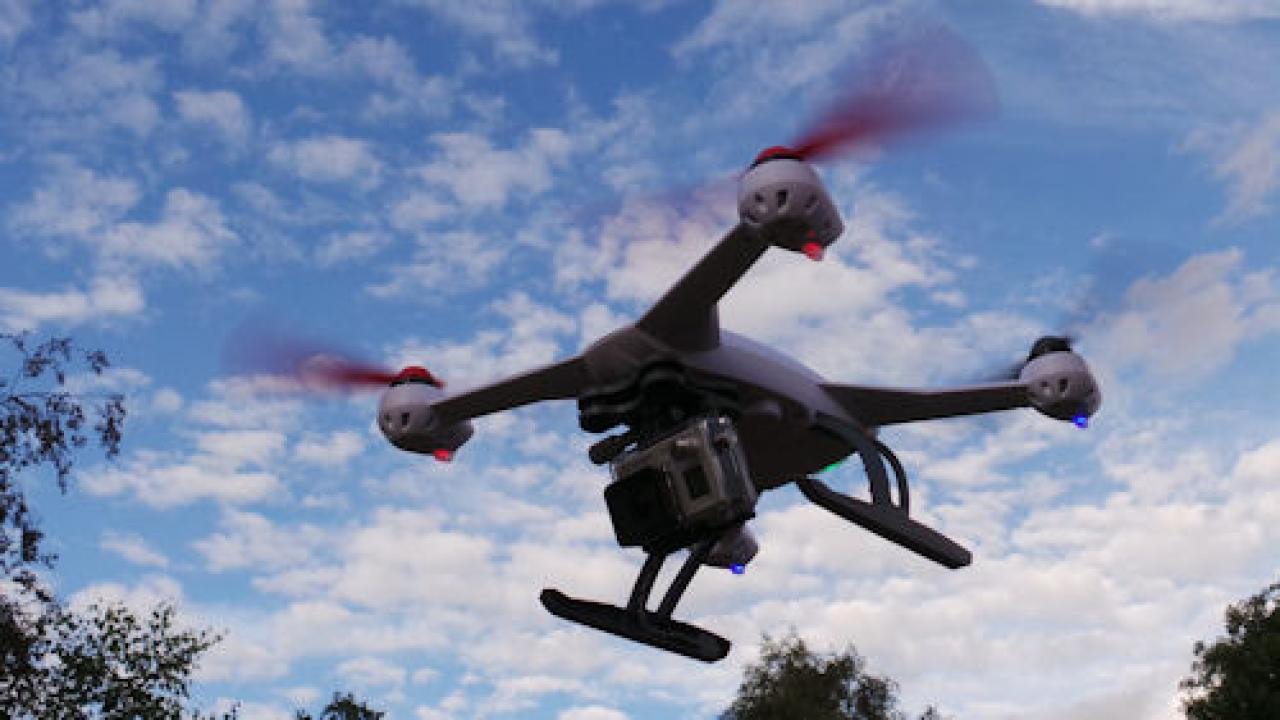Drone: (214, 6, 1201, 673)
